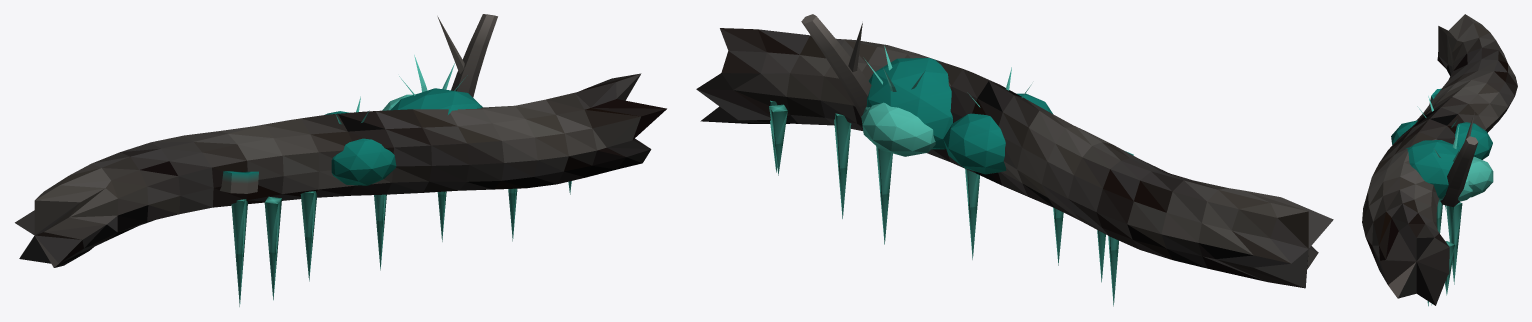
File: pohon_tumbang_bridge_swamp_565377.glb
The picture shows the model from 3 angles, left to right: view 1: azimuth 30°, elevation 25°; view 2: azimuth 150°, elevation 25°; view 3: azimuth 270°, elevation 25°; orthographic projection. The views are drawn at different scales.
Parts seen in each view (by area): view 1: Batang_Melintang_Sungai; view 2: Batang_Melintang_Sungai; view 3: Batang_Melintang_Sungai.
Part boxes in pixels (x1=…): Batang_Melintang_Sungai: x1=15, y1=14, x2=666, y2=306; Batang_Melintang_Sungai: x1=696, y1=14, x2=1333, y2=306; Batang_Melintang_Sungai: x1=1362, y1=14, x2=1517, y2=306.
Bounding box in the file's own units: 7.45 × 2.73 × 2.08.
